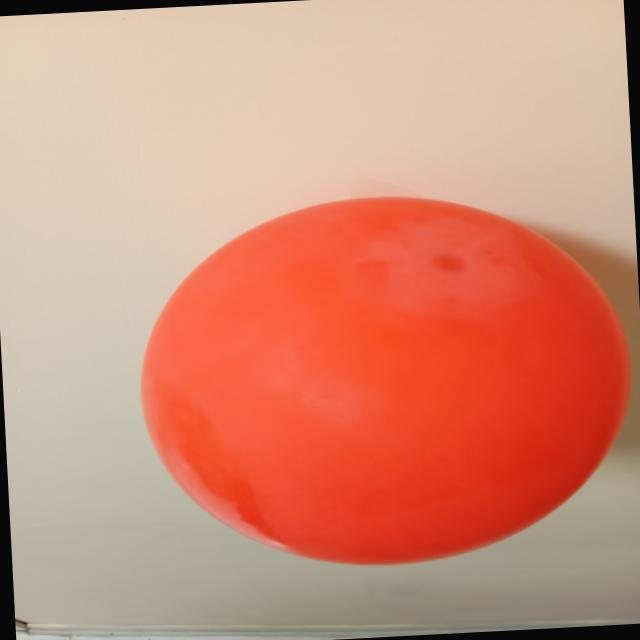balloon: (141, 197, 631, 564)
